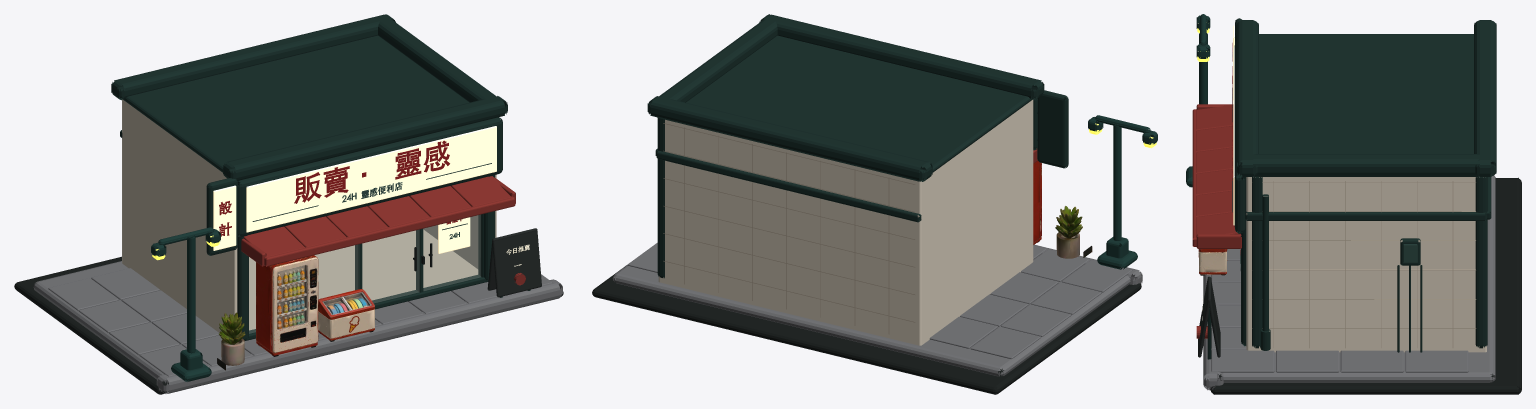
Rendered from store-exterior-meshopt.glb.
3 renders of one model, left to right at view 1: azimuth 30°, elevation 25°; view 2: azimuth 150°, elevation 25°; view 3: azimuth 270°, elevation 25°, orthographic. The views are drawn at different scales.
Visible parts, largest first — view 1: Roof cover, Left wall, Main sign inset, Interior floor, Front curb, Roof crown front, vending_source, Roof crown back, Left door, Main sign frame, Roof crown right, Right door (+35 smaller); view 2: Back wall, Roof cover, Left wall, Foundation shadow base, Sidewalk slab, Roof crown back, Roof crown front, Roof crown right, Back mid rail, Blade sign frame, Sidewalk tile -1-3, Sidewalk tile -1-2 (+11 smaller); view 3: Right wall, Roof cover, Foundation shadow base, Sidewalk slab, Roof crown right, Roof crown back, Roof crown front, Right mid rail, Right corner post 1.92, Right corner post -1.82, Sidewalk tile 7-0, Sidewalk tile 7-2 (+26 smaller).
Part boxes in pixels (<box>): Roof cover: <box>121,35,498,172</box>; Left wall: <box>123,100,237,332</box>; Main sign inset: <box>246,126,496,232</box>; Interior floor: <box>249,229,478,330</box>; Front curb: <box>156,279,562,393</box>; Roof crown front: <box>223,96,507,180</box>; vending_source: <box>256,255,318,356</box>; Roof crown back: <box>111,14,395,100</box>; Left door: <box>362,230,419,302</box>; Main sign frame: <box>237,117,502,236</box>; Roof crown right: <box>378,19,504,105</box>; Right door: <box>423,215,480,290</box>; Back wall: <box>658,119,922,345</box>; Roof cover: <box>657,35,1034,181</box>; Left wall: <box>922,100,1033,344</box>; Foundation shadow base: <box>592,265,1141,394</box>; Sidewalk slab: <box>612,254,1130,376</box>; Roof crown back: <box>647,96,932,181</box>; Roof crown front: <box>759,14,1044,99</box>; Roof crown right: <box>651,16,778,103</box>; Back mid rail: <box>656,150,921,222</box>; Blade sign frame: <box>1037,90,1068,168</box>; Sidewalk tile -1-3: <box>970,326,1041,359</box>; Sidewalk tile -1-2: <box>1001,304,1071,336</box>; Right wall: <box>1246,177,1483,352</box>; Roof cover: <box>1241,34,1491,176</box>; Foundation shadow base: <box>1210,177,1521,394</box>; Sidewalk slab: <box>1217,175,1495,382</box>; Roof crown right: <box>1238,154,1494,175</box>; Roof crown back: <box>1474,20,1496,176</box>; Roof crown front: <box>1236,20,1258,176</box>; Right mid rail: <box>1245,211,1486,220</box>; Right corner post 1.92: <box>1475,176,1487,348</box>; Right corner post -1.82: <box>1252,176,1262,348</box>; Sidewalk tile 7-0: <box>1211,349,1274,372</box>; Sidewalk tile 7-2: <box>1340,350,1403,372</box>.
Size of the model in its own units: 8.54 by 3.89 by 5.61.
20 materials, 3 textured.
